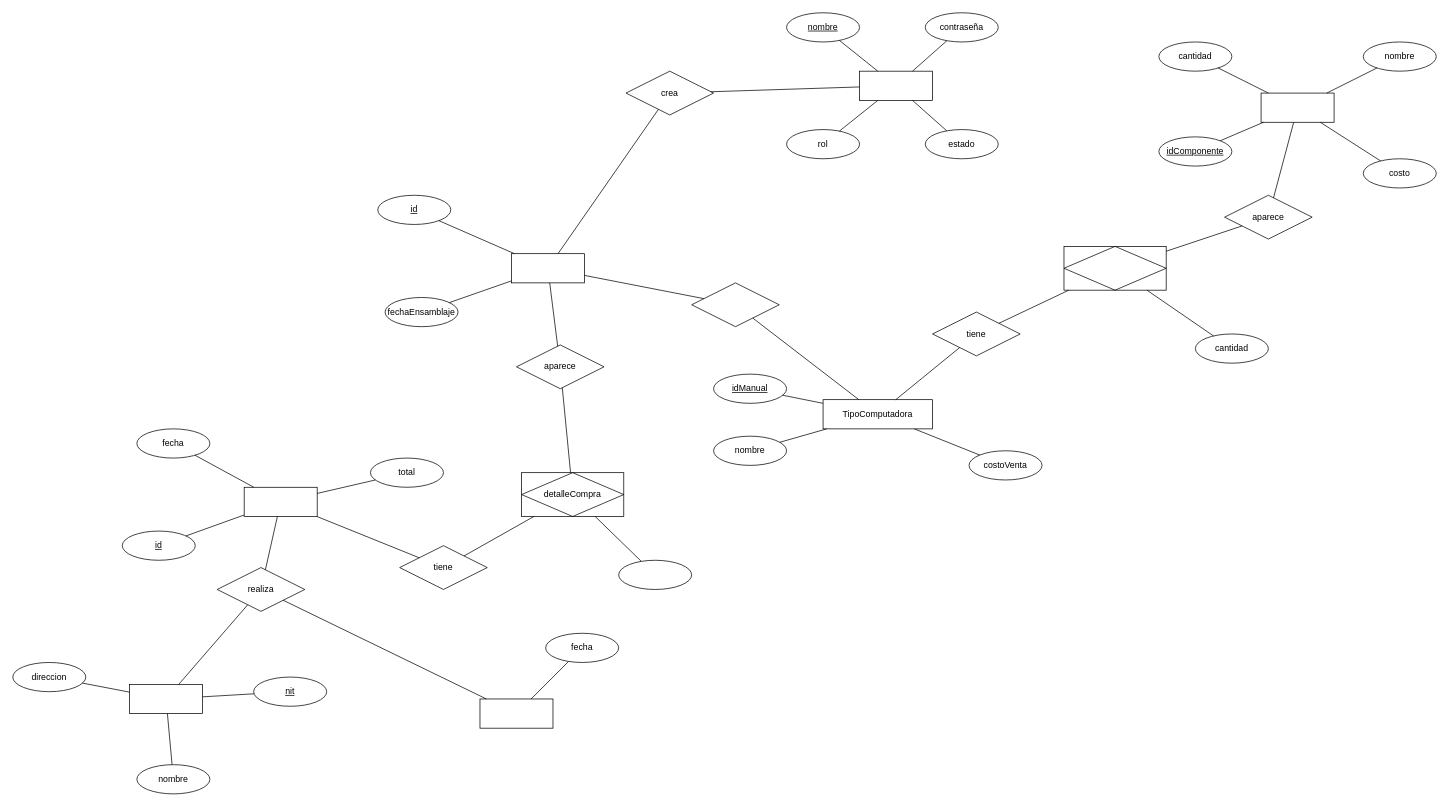
Some shapes in this 1449 by 807 pixel diagram are drawn without their labels. Here are the shapes that lost their labels. From the top down, the centre of each, then its label:
point (896, 85): Usuario
point (1297, 107): Componente
point (547, 268): Computadora
point (1114, 268): Especificacion
point (735, 304): es
point (280, 501): compra
point (655, 574): subTotal
point (166, 699): Cliente
point (516, 713): devolucion
